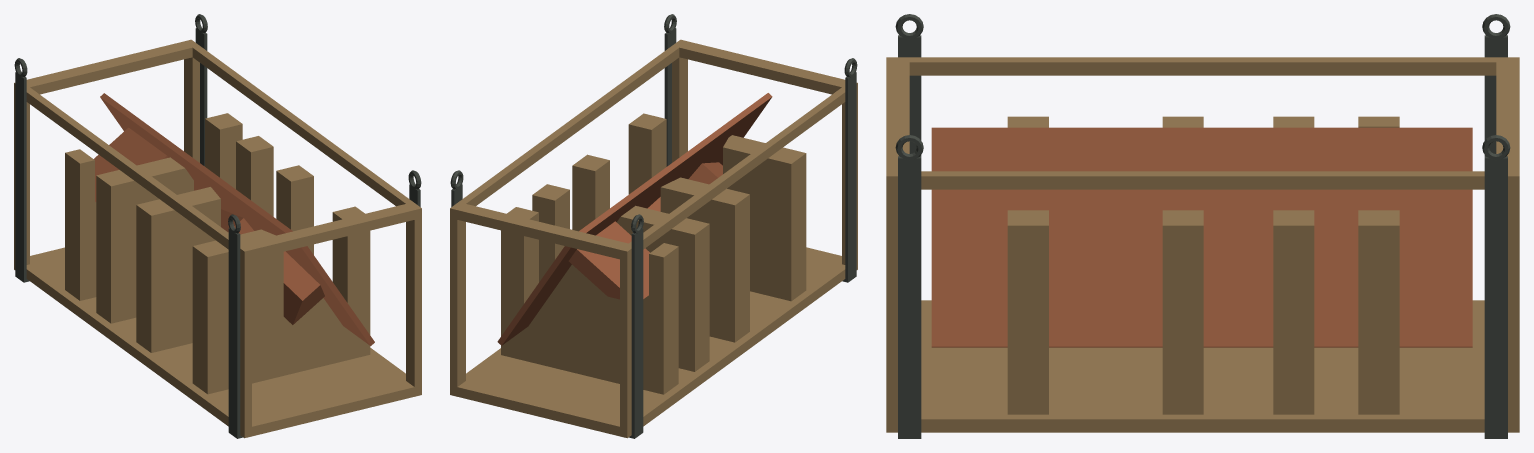
The model's file is face-package.glb.
3 renders of one model, left to right at view 1: azimuth 30°, elevation 25°; view 2: azimuth 150°, elevation 25°; view 3: azimuth 270°, elevation 25°, orthographic. The views are drawn at different scales.
Parts seen in each view (by area): view 1: tray-open-frame-timber.001, fitted-packing-cleat-2-timber.001, tray-floor-timber.001, fitted-packing-cleat-1-timber.001, fitted-packing-cleat-0-timber.001, tray-bearing-bands-and-eyes-iron.001, fitted-packing-cleat-3-timber.001, lower-ne-02-m015-c000.007, lower-ne-02-m015-c003.005, lower-ne-02-m015-c004.005; view 2: tray-open-frame-timber.001, fitted-packing-cleat-3-timber.001, tray-floor-timber.001, fitted-packing-cleat-2-timber.001, fitted-packing-cleat-1-timber.001, fitted-packing-cleat-0-timber.001, tray-bearing-bands-and-eyes-iron.001, lower-ne-02-m015-c000.007, lower-ne-02-m015-c004.005, lower-ne-02-m015-c003.005; view 3: lower-ne-02-m015-c000.007, tray-floor-timber.001, tray-open-frame-timber.001, tray-bearing-bands-and-eyes-iron.001, fitted-packing-cleat-3-timber.001, fitted-packing-cleat-0-timber.001, fitted-packing-cleat-1-timber.001, fitted-packing-cleat-2-timber.001.
Boxes of the visible parts, x1=… form: tray-open-frame-timber.001: x1=14, y1=39, x2=421, y2=428; fitted-packing-cleat-2-timber.001: x1=192, y1=206, x2=370, y2=394; tray-floor-timber.001: x1=14, y1=247, x2=421, y2=438; fitted-packing-cleat-1-timber.001: x1=136, y1=165, x2=313, y2=352; fitted-packing-cleat-0-timber.001: x1=96, y1=136, x2=273, y2=323; tray-bearing-bands-and-eyes-iron.001: x1=14, y1=14, x2=421, y2=438; fitted-packing-cleat-3-timber.001: x1=65, y1=113, x2=242, y2=300; lower-ne-02-m015-c000.007: x1=100, y1=93, x2=374, y2=345; lower-ne-02-m015-c003.005: x1=283, y1=251, x2=324, y2=324; lower-ne-02-m015-c004.005: x1=94, y1=127, x2=168, y2=201; tray-open-frame-timber.001: x1=450, y1=39, x2=857, y2=428; fitted-packing-cleat-3-timber.001: x1=501, y1=207, x2=678, y2=394; tray-floor-timber.001: x1=450, y1=247, x2=857, y2=438; fitted-packing-cleat-2-timber.001: x1=628, y1=113, x2=806, y2=301; fitted-packing-cleat-1-timber.001: x1=572, y1=154, x2=749, y2=342; fitted-packing-cleat-0-timber.001: x1=532, y1=184, x2=709, y2=371; tray-bearing-bands-and-eyes-iron.001: x1=450, y1=14, x2=857, y2=438; lower-ne-02-m015-c000.007: x1=497, y1=93, x2=772, y2=345; lower-ne-02-m015-c004.005: x1=568, y1=221, x2=649, y2=299; lower-ne-02-m015-c003.005: x1=688, y1=162, x2=722, y2=184; lower-ne-02-m015-c000.007: x1=931, y1=127, x2=1472, y2=347; tray-floor-timber.001: x1=886, y1=300, x2=1519, y2=432; tray-open-frame-timber.001: x1=886, y1=57, x2=1519, y2=419; tray-bearing-bands-and-eyes-iron.001: x1=895, y1=14, x2=1510, y2=438; fitted-packing-cleat-3-timber.001: x1=1358, y1=116, x2=1399, y2=414; fitted-packing-cleat-0-timber.001: x1=1273, y1=116, x2=1314, y2=414; fitted-packing-cleat-1-timber.001: x1=1162, y1=116, x2=1203, y2=414; fitted-packing-cleat-2-timber.001: x1=1007, y1=116, x2=1048, y2=414.
Size of the model in its own units: 0.4984 by 0.57 by 1.08.
